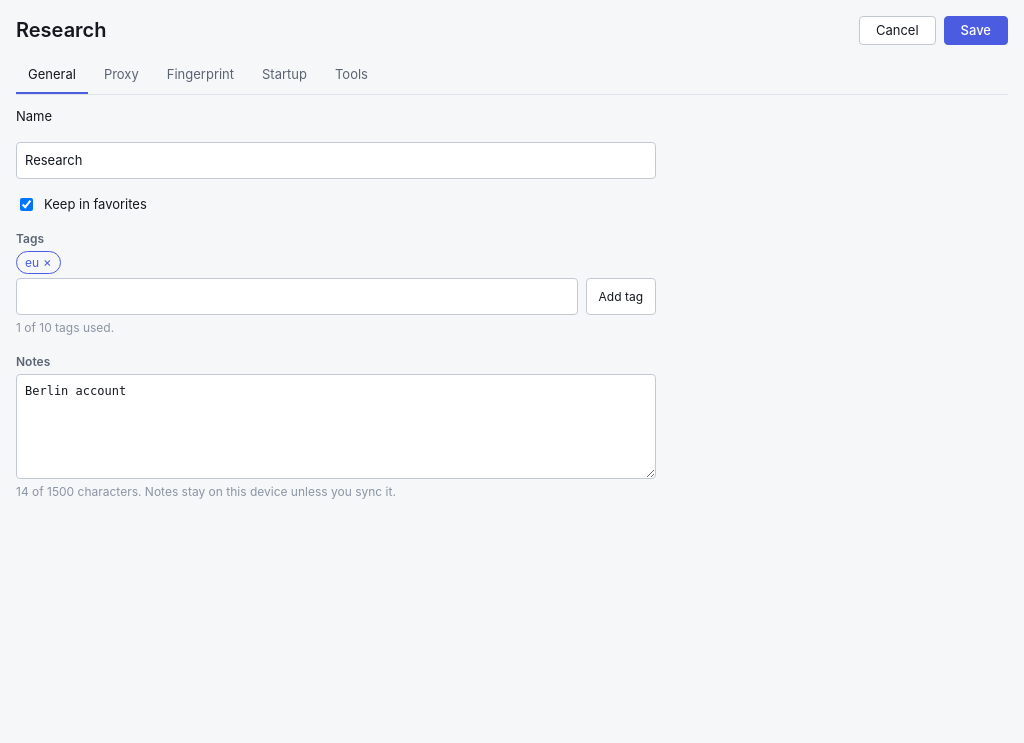
ProfileEditor, editing an existing profile › counts the problems on each tab
The image size is (1024, 743).
Expected: the field labelled "Name" is shown, [16,142,656,178]
Click the tab "Fingerprint" at {"x": 200, "y": 75}, box [155,57,246,94]
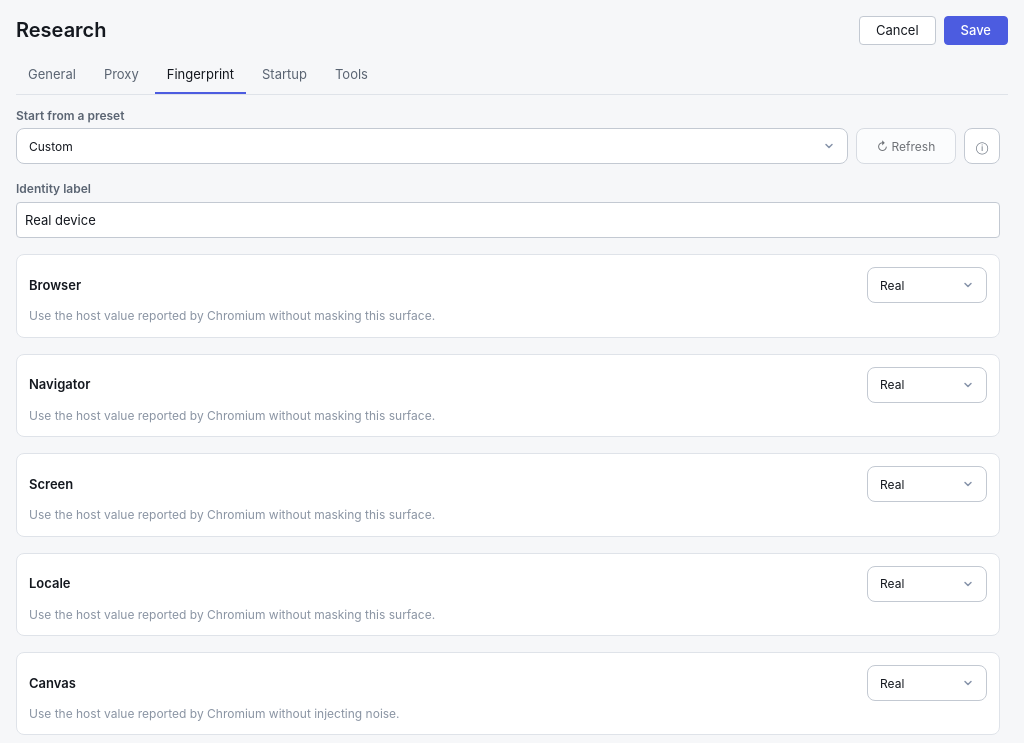
Select "Custom" in the dropdown named "Screen mode" in the row of "Screen" at {"x": 927, "y": 484}, box [867,466,987,502]
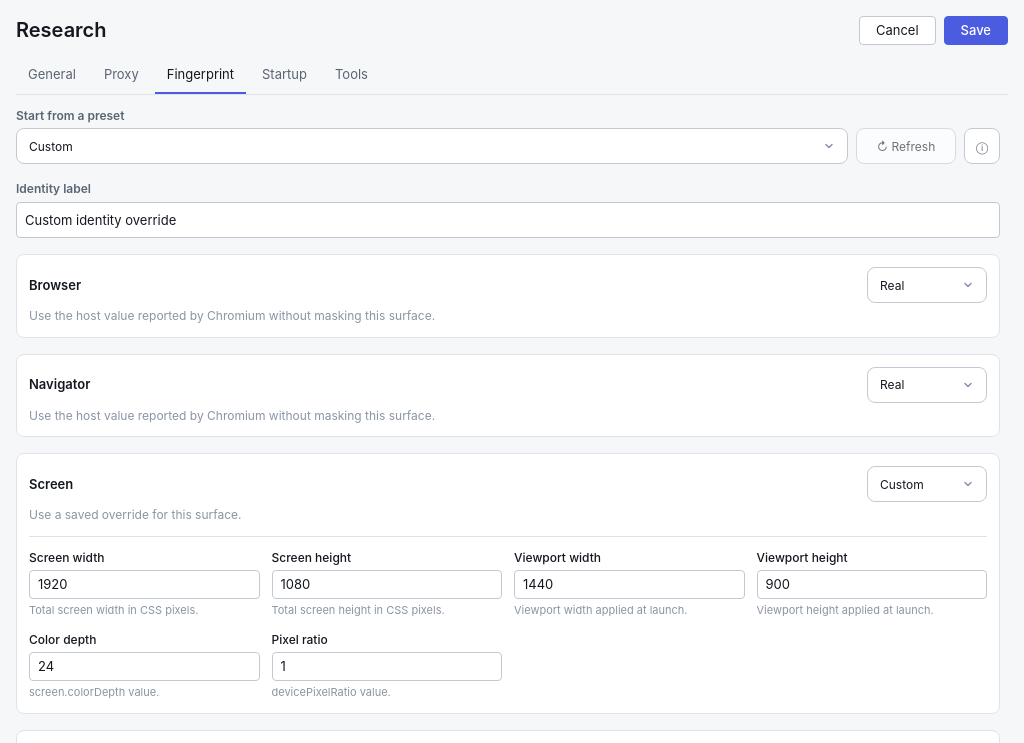
Replace the text in the field labelled "Screen width" with "0" at {"x": 144, "y": 584}, box [29,570,260,599]
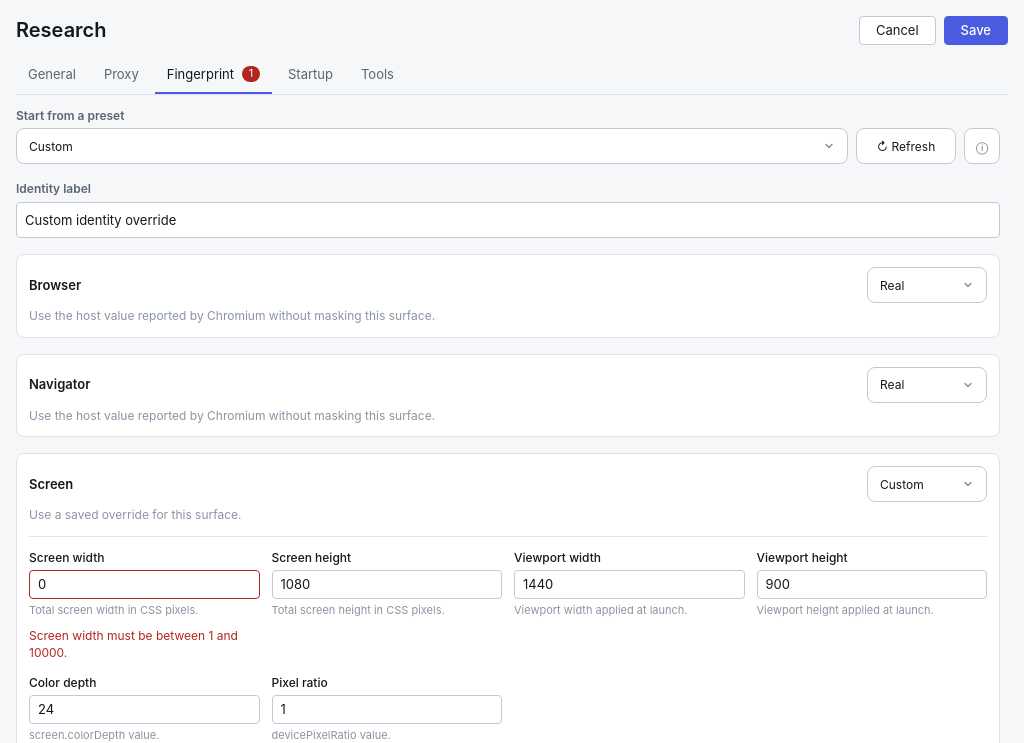
Expected: the text named "problems" is shown, [242,66,260,82]
